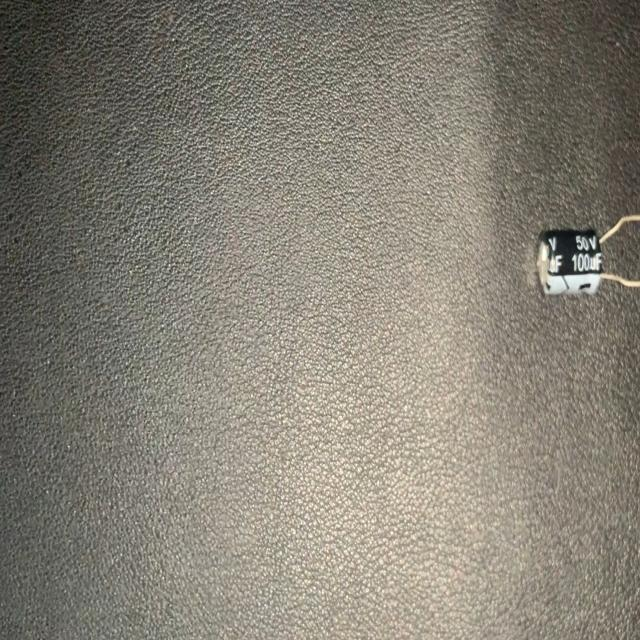capacitor: (532, 206, 640, 308)
